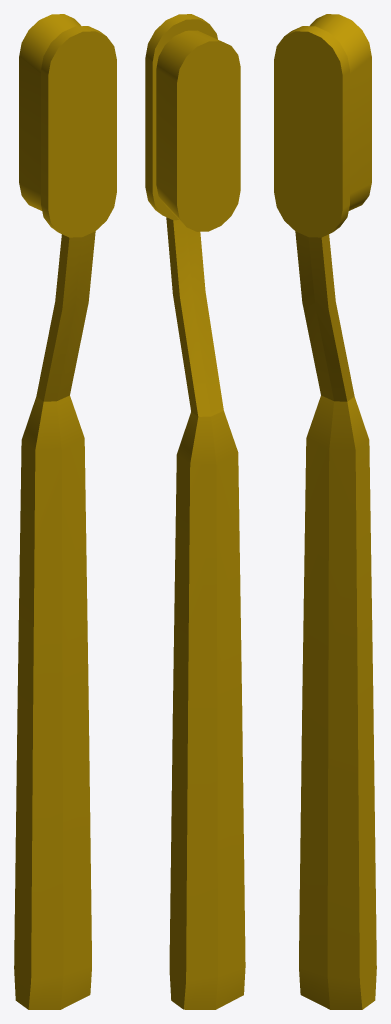
File: Toothbrush.fbx
The picture shows the model from 3 angles, left to right: view 1: azimuth 30°, elevation 25°; view 2: azimuth 210°, elevation 25°; view 3: azimuth 330°, elevation 25°; orthographic projection. The views are drawn at different scales.
Parts seen in each view (by area): view 1: Toothbrush; view 2: Toothbrush; view 3: Toothbrush.
Part boxes in pixels (<box>): Toothbrush: <box>14,14,116,1009</box>; Toothbrush: <box>145,14,245,1009</box>; Toothbrush: <box>274,14,376,1009</box>.
Bounding box in the file's own units: 12.02 × 166 × 12.2.
